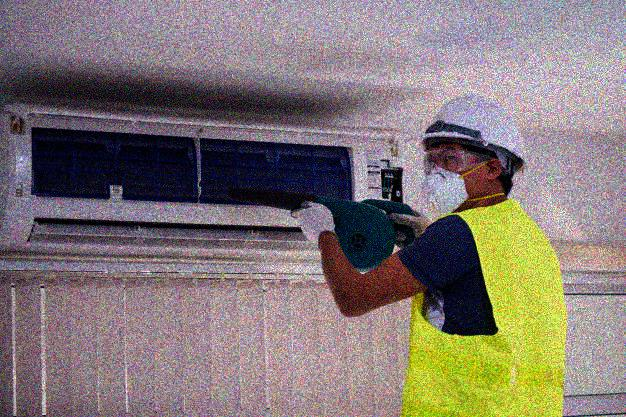helmet: (407, 94, 530, 212)
